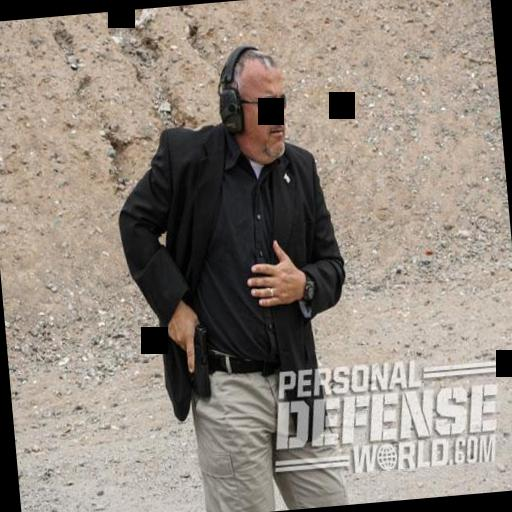Handgun: (176, 320, 212, 401)
